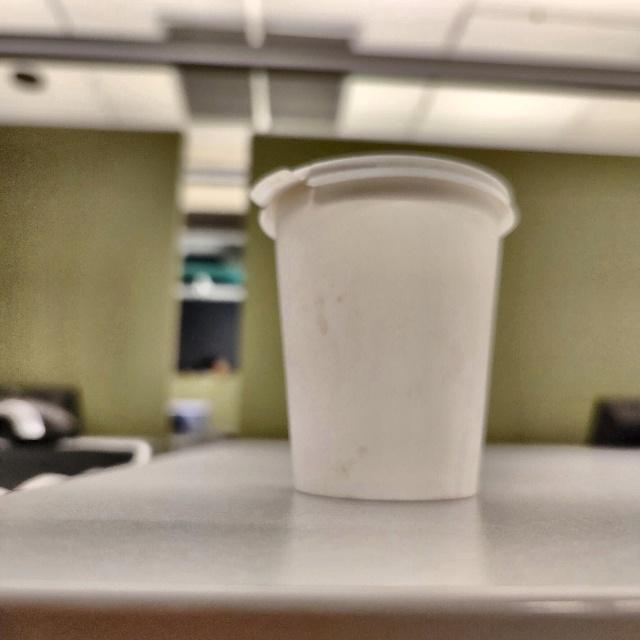paper_cup: (247, 156, 529, 504)
